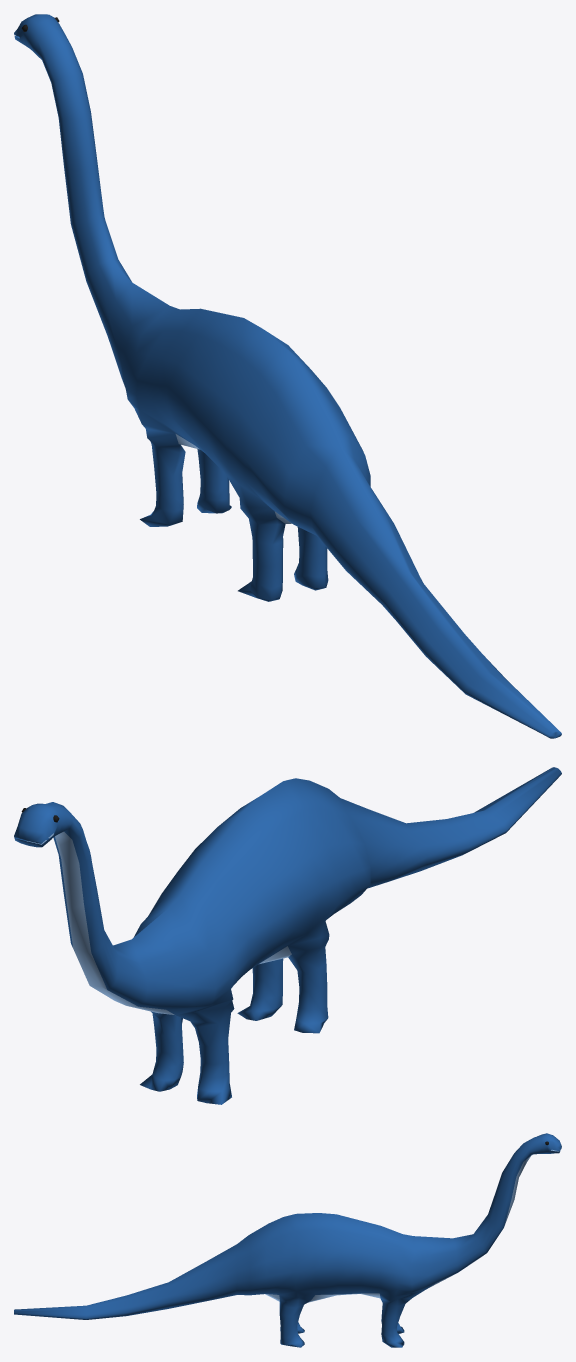
Rendered from brachiosaurus.obj.
3 renders of one model, top to bottom at view 1: azimuth 30°, elevation 25°; view 2: azimuth 150°, elevation 25°; view 3: azimuth 270°, elevation 25°, orthographic. The views are drawn at different scales.
Parts seen in each view (by area): view 1: Symmetry.1; view 2: Symmetry.1; view 3: Symmetry.1.
Boxes of the visible parts, box(x1,y1,x2,y2) form: Symmetry.1: box(14, 14, 561, 738); Symmetry.1: box(14, 767, 561, 1104); Symmetry.1: box(14, 1133, 561, 1347).
Bounding box in the file's own units: 195 × 625 × 1531.
